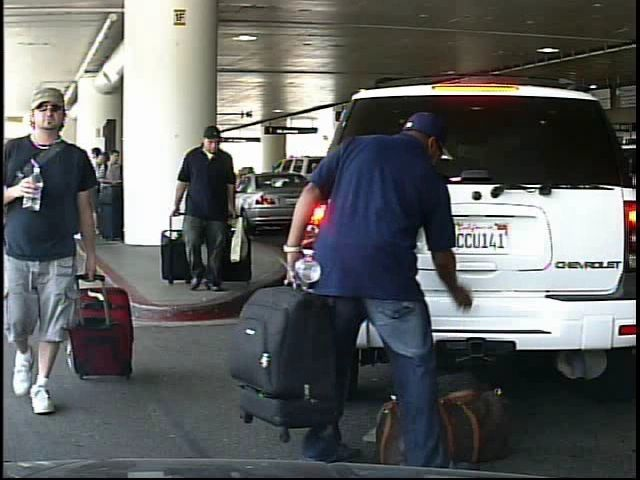person: (276, 75, 457, 471), (2, 92, 110, 423), (167, 129, 247, 297)
